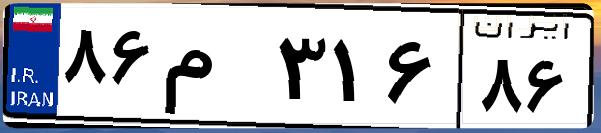1: (330, 28, 385, 110)
3: (270, 28, 330, 110)
6: (385, 28, 445, 110), (525, 38, 570, 115), (110, 28, 158, 98)
8: (57, 26, 110, 100), (475, 38, 525, 113)
م: (158, 20, 270, 120)
